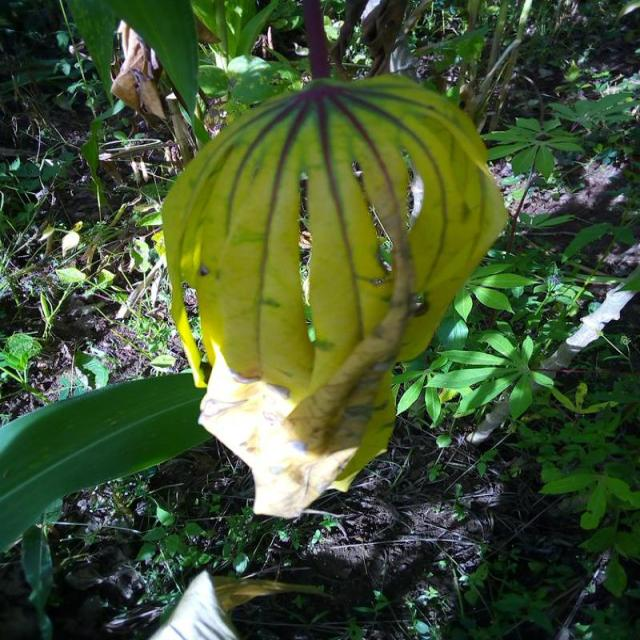cassava leaf: (159, 69, 509, 518)
